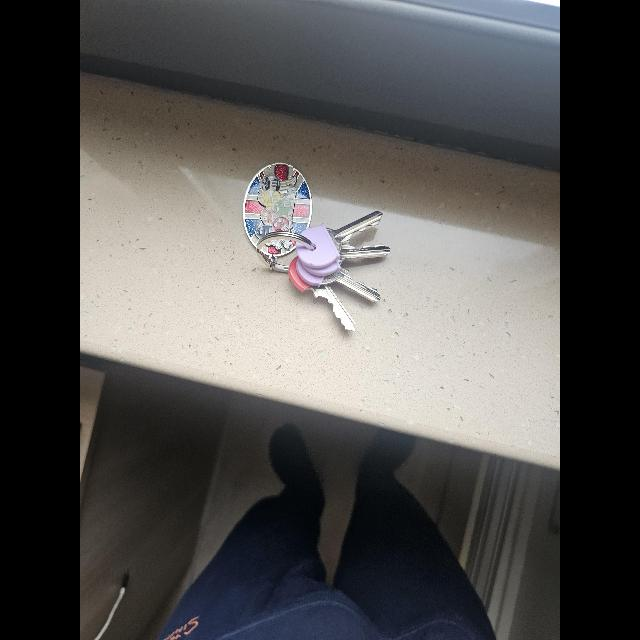Keys: (244, 165, 386, 331)
